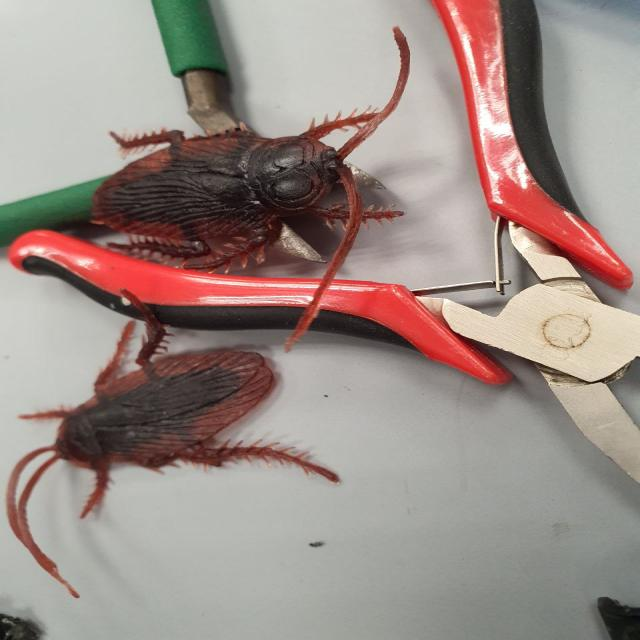Cockroach: (91, 31, 423, 330), (5, 294, 315, 589)
